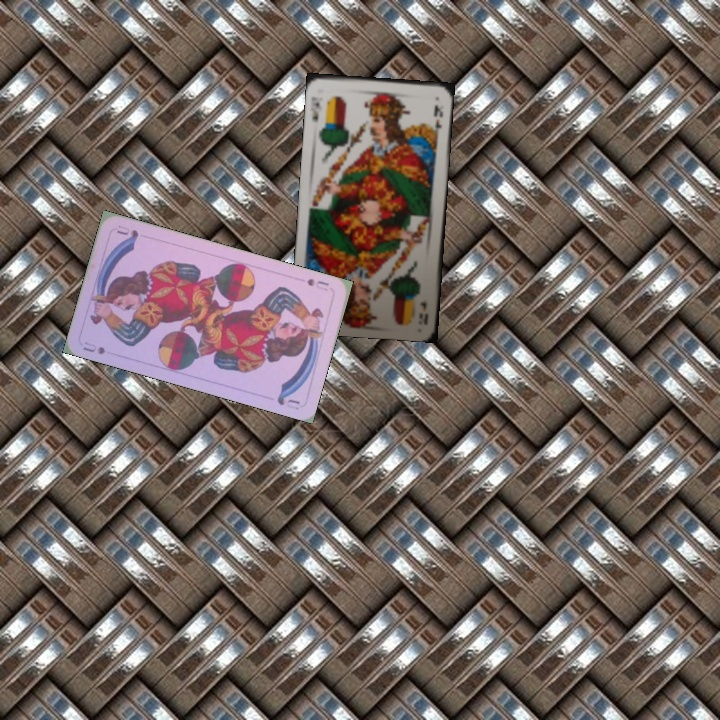EK: (308, 92, 322, 125), (416, 298, 431, 326)
SU: (303, 274, 331, 294), (79, 338, 108, 357)
